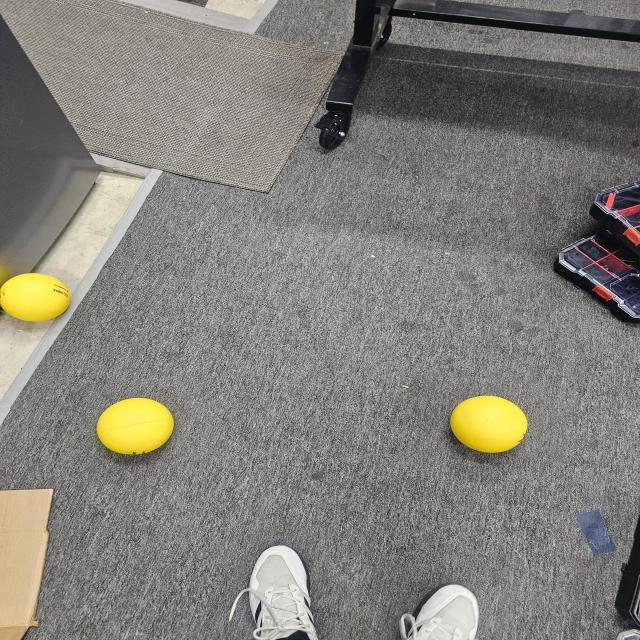Fuel: (442, 391, 536, 454), (94, 396, 178, 457), (0, 264, 77, 328)
